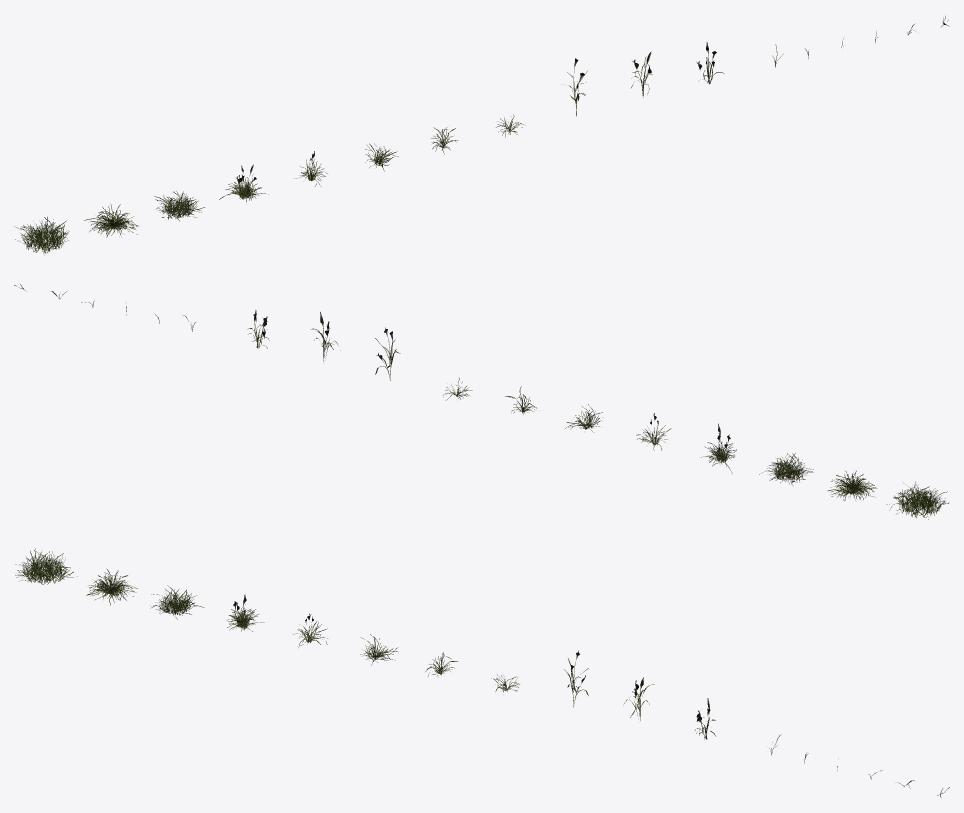
File: grass_medium_01.glb
The picture shows the model from 3 angles, top to bottom: view 1: azimuth 30°, elevation 25°; view 2: azimuth 150°, elevation 25°; view 3: azimuth 330°, elevation 25°; orthographic projection.
Parts seen in each view (by area): view 1: grass_medium_01_large_a_LOD0, grass_medium_01_large_b_LOD0, grass_medium_01_large_c_LOD0, grass_medium_01_mid_a_LOD0; view 2: grass_medium_01_large_a_LOD0, grass_medium_01_large_c_LOD0, grass_medium_01_large_b_LOD0; view 3: grass_medium_01_large_a_LOD0, grass_medium_01_large_b_LOD0, grass_medium_01_large_c_LOD0.
Part boxes in pixels (<box>): grass_medium_01_large_a_LOD0: <box>14,216,69,254</box>; grass_medium_01_large_b_LOD0: <box>84,204,139,237</box>; grass_medium_01_large_c_LOD0: <box>154,191,204,220</box>; grass_medium_01_mid_a_LOD0: <box>219,164,268,202</box>; grass_medium_01_large_a_LOD0: <box>886,481,949,519</box>; grass_medium_01_large_c_LOD0: <box>759,453,813,486</box>; grass_medium_01_large_b_LOD0: <box>828,470,877,500</box>; grass_medium_01_large_a_LOD0: <box>15,548,77,584</box>; grass_medium_01_large_b_LOD0: <box>86,569,137,605</box>; grass_medium_01_large_c_LOD0: <box>150,585,204,619</box>.
Size of the model in its own units: 5.6 by 0.3428 by 0.3271.
Materials: 1 (1 with a texture image).
